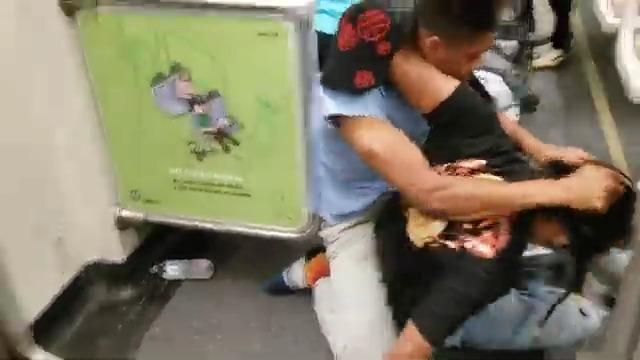violence: (264, 0, 640, 360)
